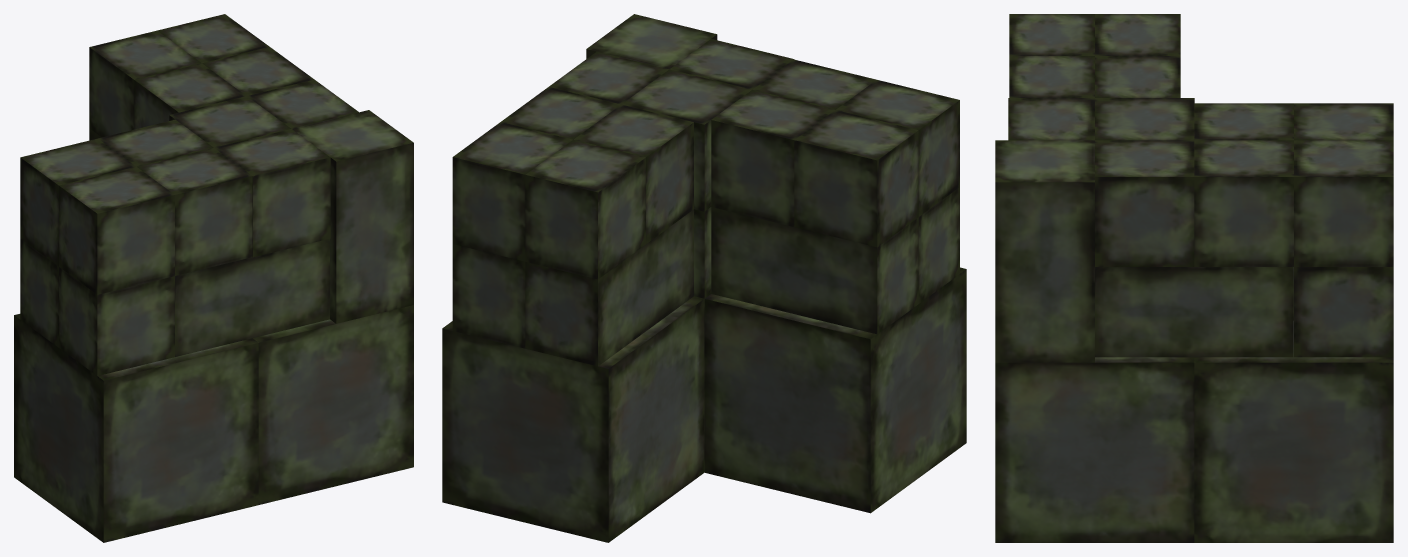
File: corner-01.fbx
3 renders of one model, left to right at view 1: azimuth 30°, elevation 25°; view 2: azimuth 150°, elevation 25°; view 3: azimuth 270°, elevation 25°, orthographic. The views are drawn at different scales.
Parts seen in each view (by area): view 1: corner_1; view 2: corner_1; view 3: corner_1.
Boxes of the visible parts, x1,y1,x2,y2 form: corner_1: [14, 14, 413, 542]; corner_1: [442, 14, 966, 542]; corner_1: [995, 14, 1393, 542].
Bounding box in the file's own units: 400 × 400 × 400.
